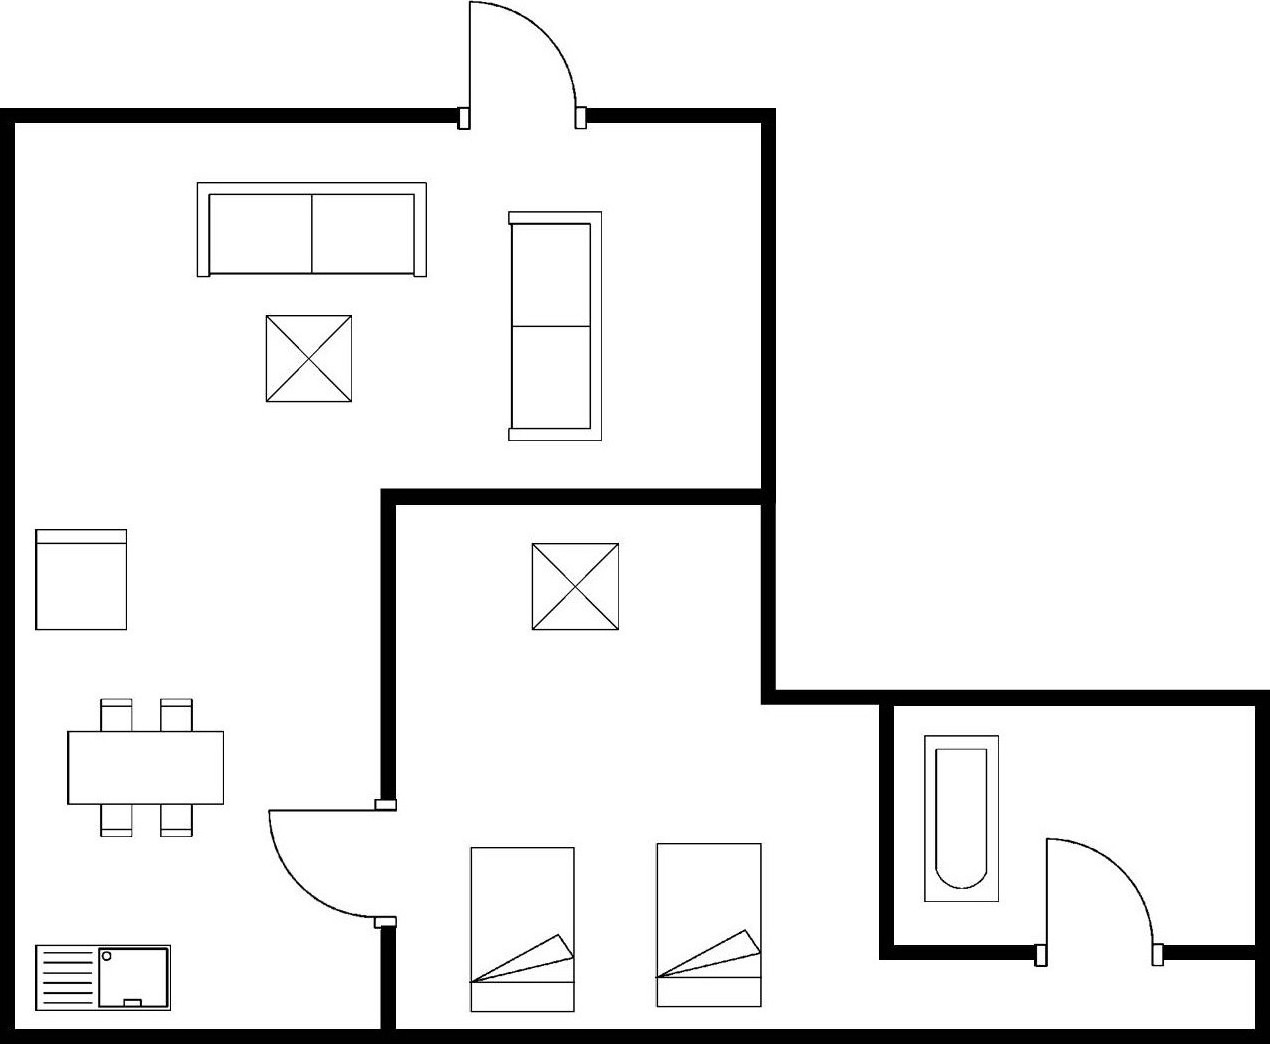bed: (462, 841, 583, 1018), (651, 837, 770, 1015)
coffee_table: (259, 309, 361, 407), (526, 539, 625, 638)
dining_table: (62, 693, 232, 845)
large_sofa: (192, 176, 434, 284), (505, 206, 605, 447)
sink: (29, 938, 178, 1015)
small_sofa: (32, 525, 133, 639)
tub: (917, 730, 1005, 912)
